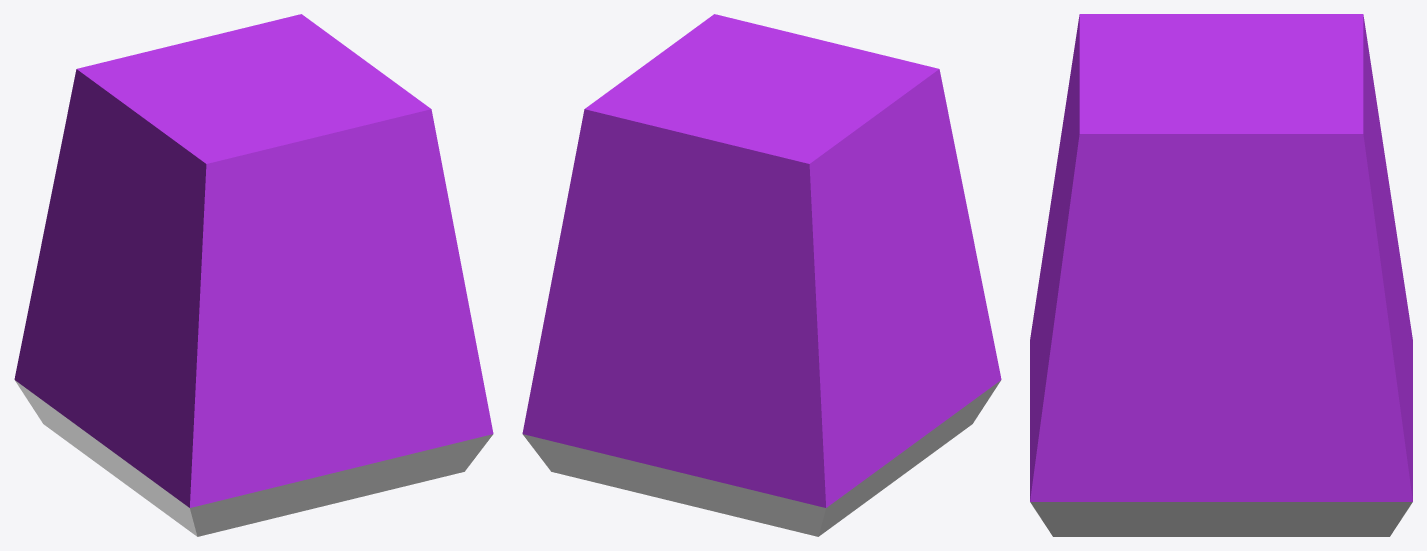
Rendered from Purpule_pipe.fbx.
3 renders of one model, left to right at view 1: azimuth 30°, elevation 25°; view 2: azimuth 150°, elevation 25°; view 3: azimuth 270°, elevation 25°, orthographic. The views are drawn at different scales.
Visible parts, largest first — view 1: Cube.007; view 2: Cube.007; view 3: Cube.007.
Boxes of the visible parts, x1,y1,x2,y2 form: Cube.007: (14,14,493,536); Cube.007: (522,14,1001,536); Cube.007: (1030,14,1412,536).
Size of the model in its own units: 200 by 226 by 200.
